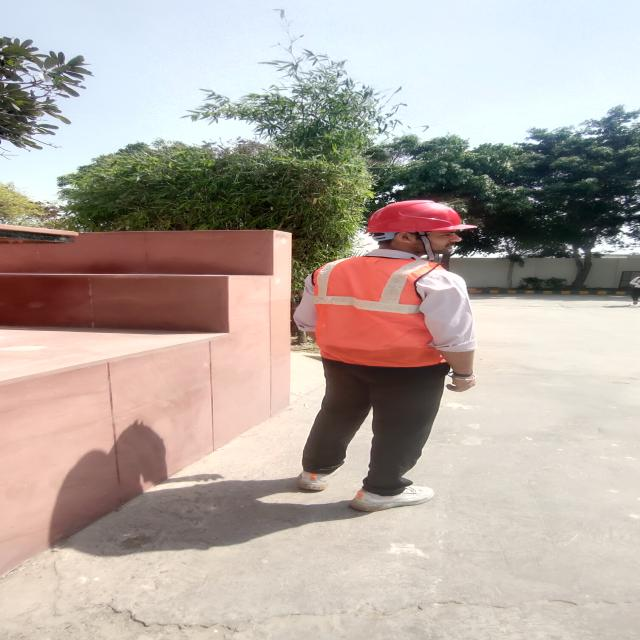safe: (296, 200, 477, 512)
